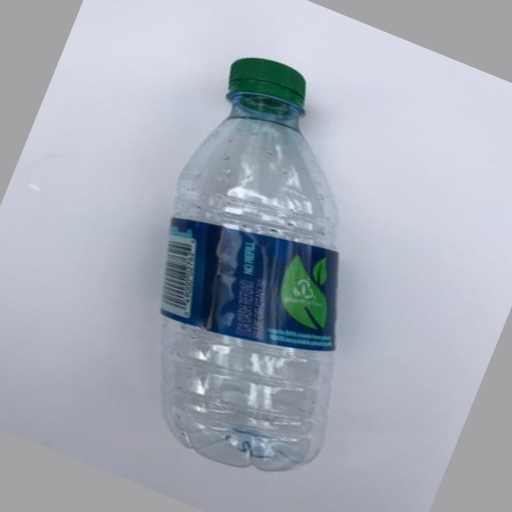Plastic_0: (163, 57, 332, 474)
